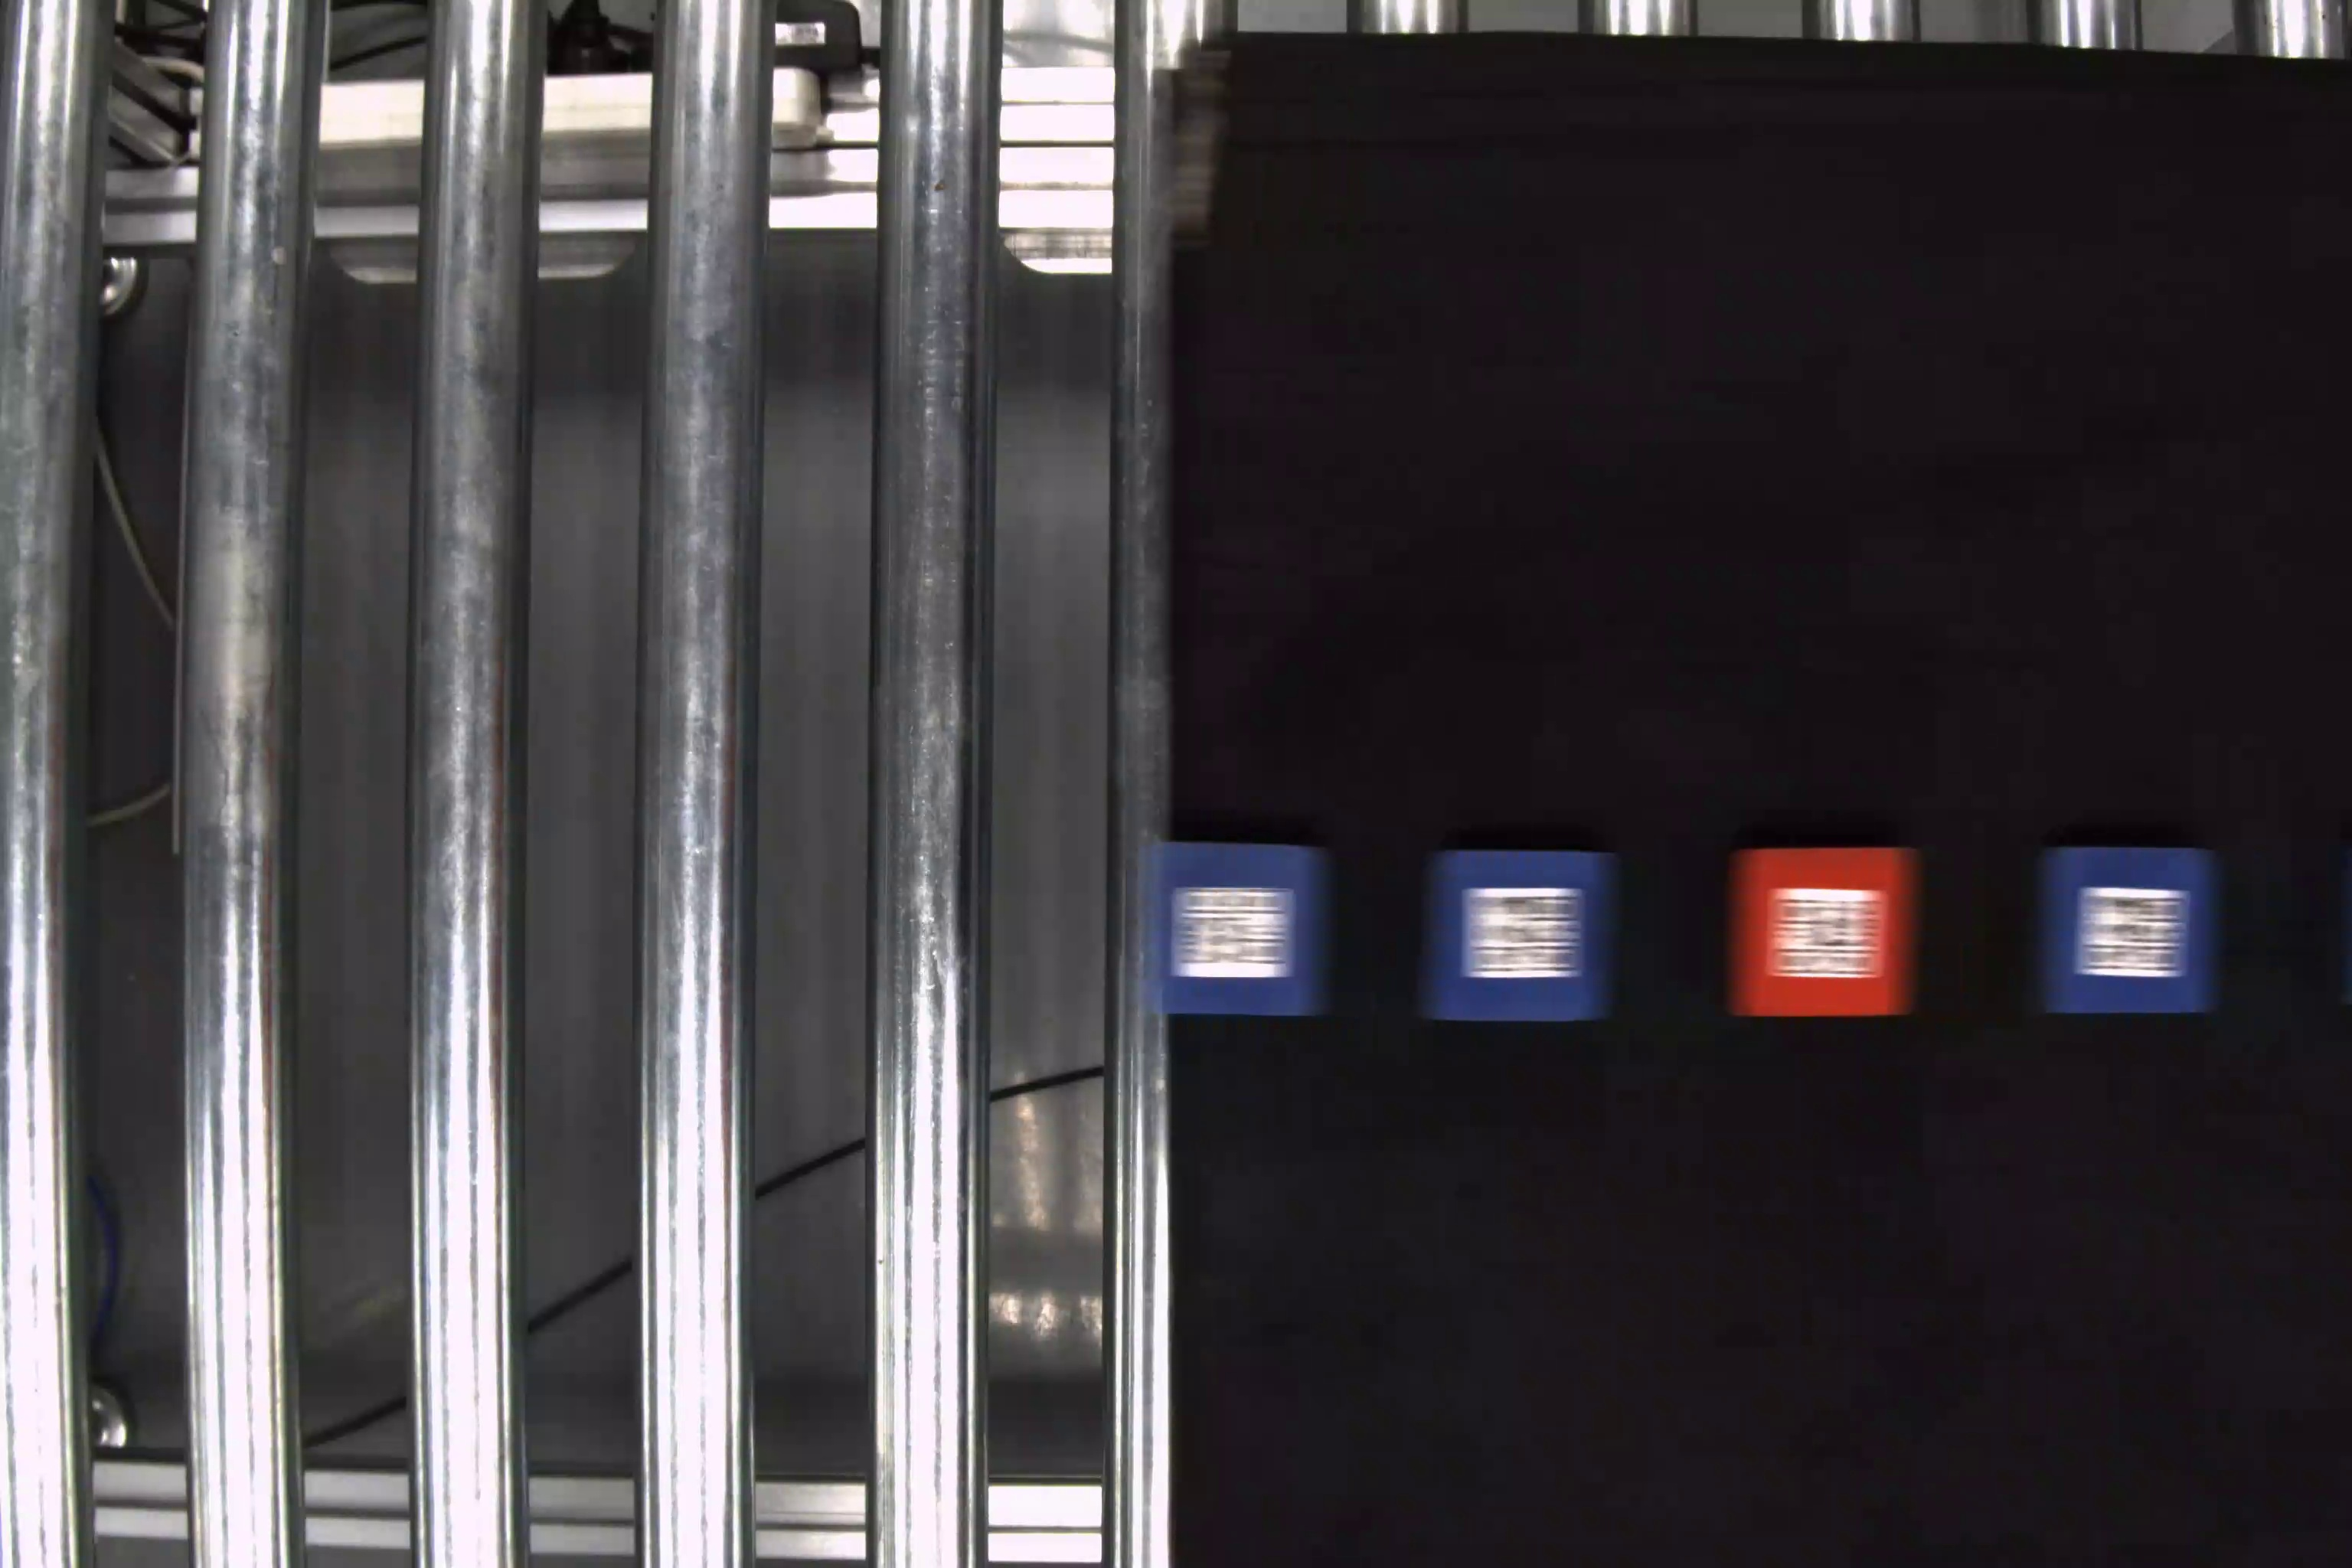wood: (1144, 840, 1340, 1022), (1423, 845, 1622, 1022), (1731, 845, 1930, 1018), (2040, 843, 2228, 1013)
